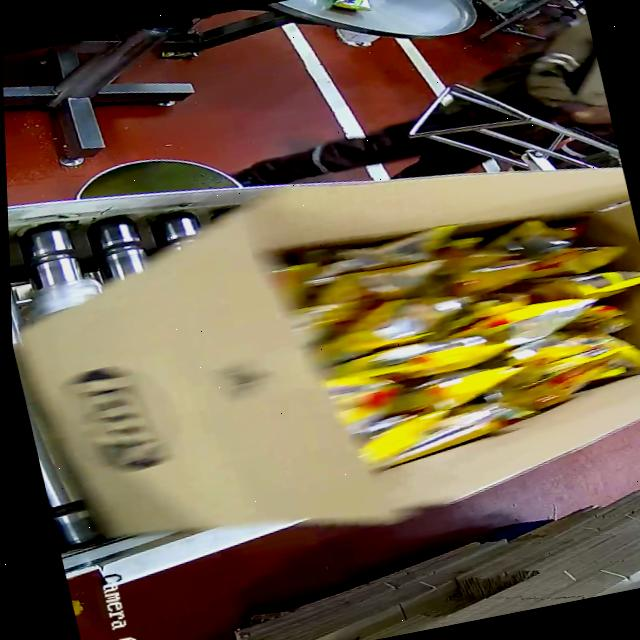SALTED: (261, 184, 640, 473)
